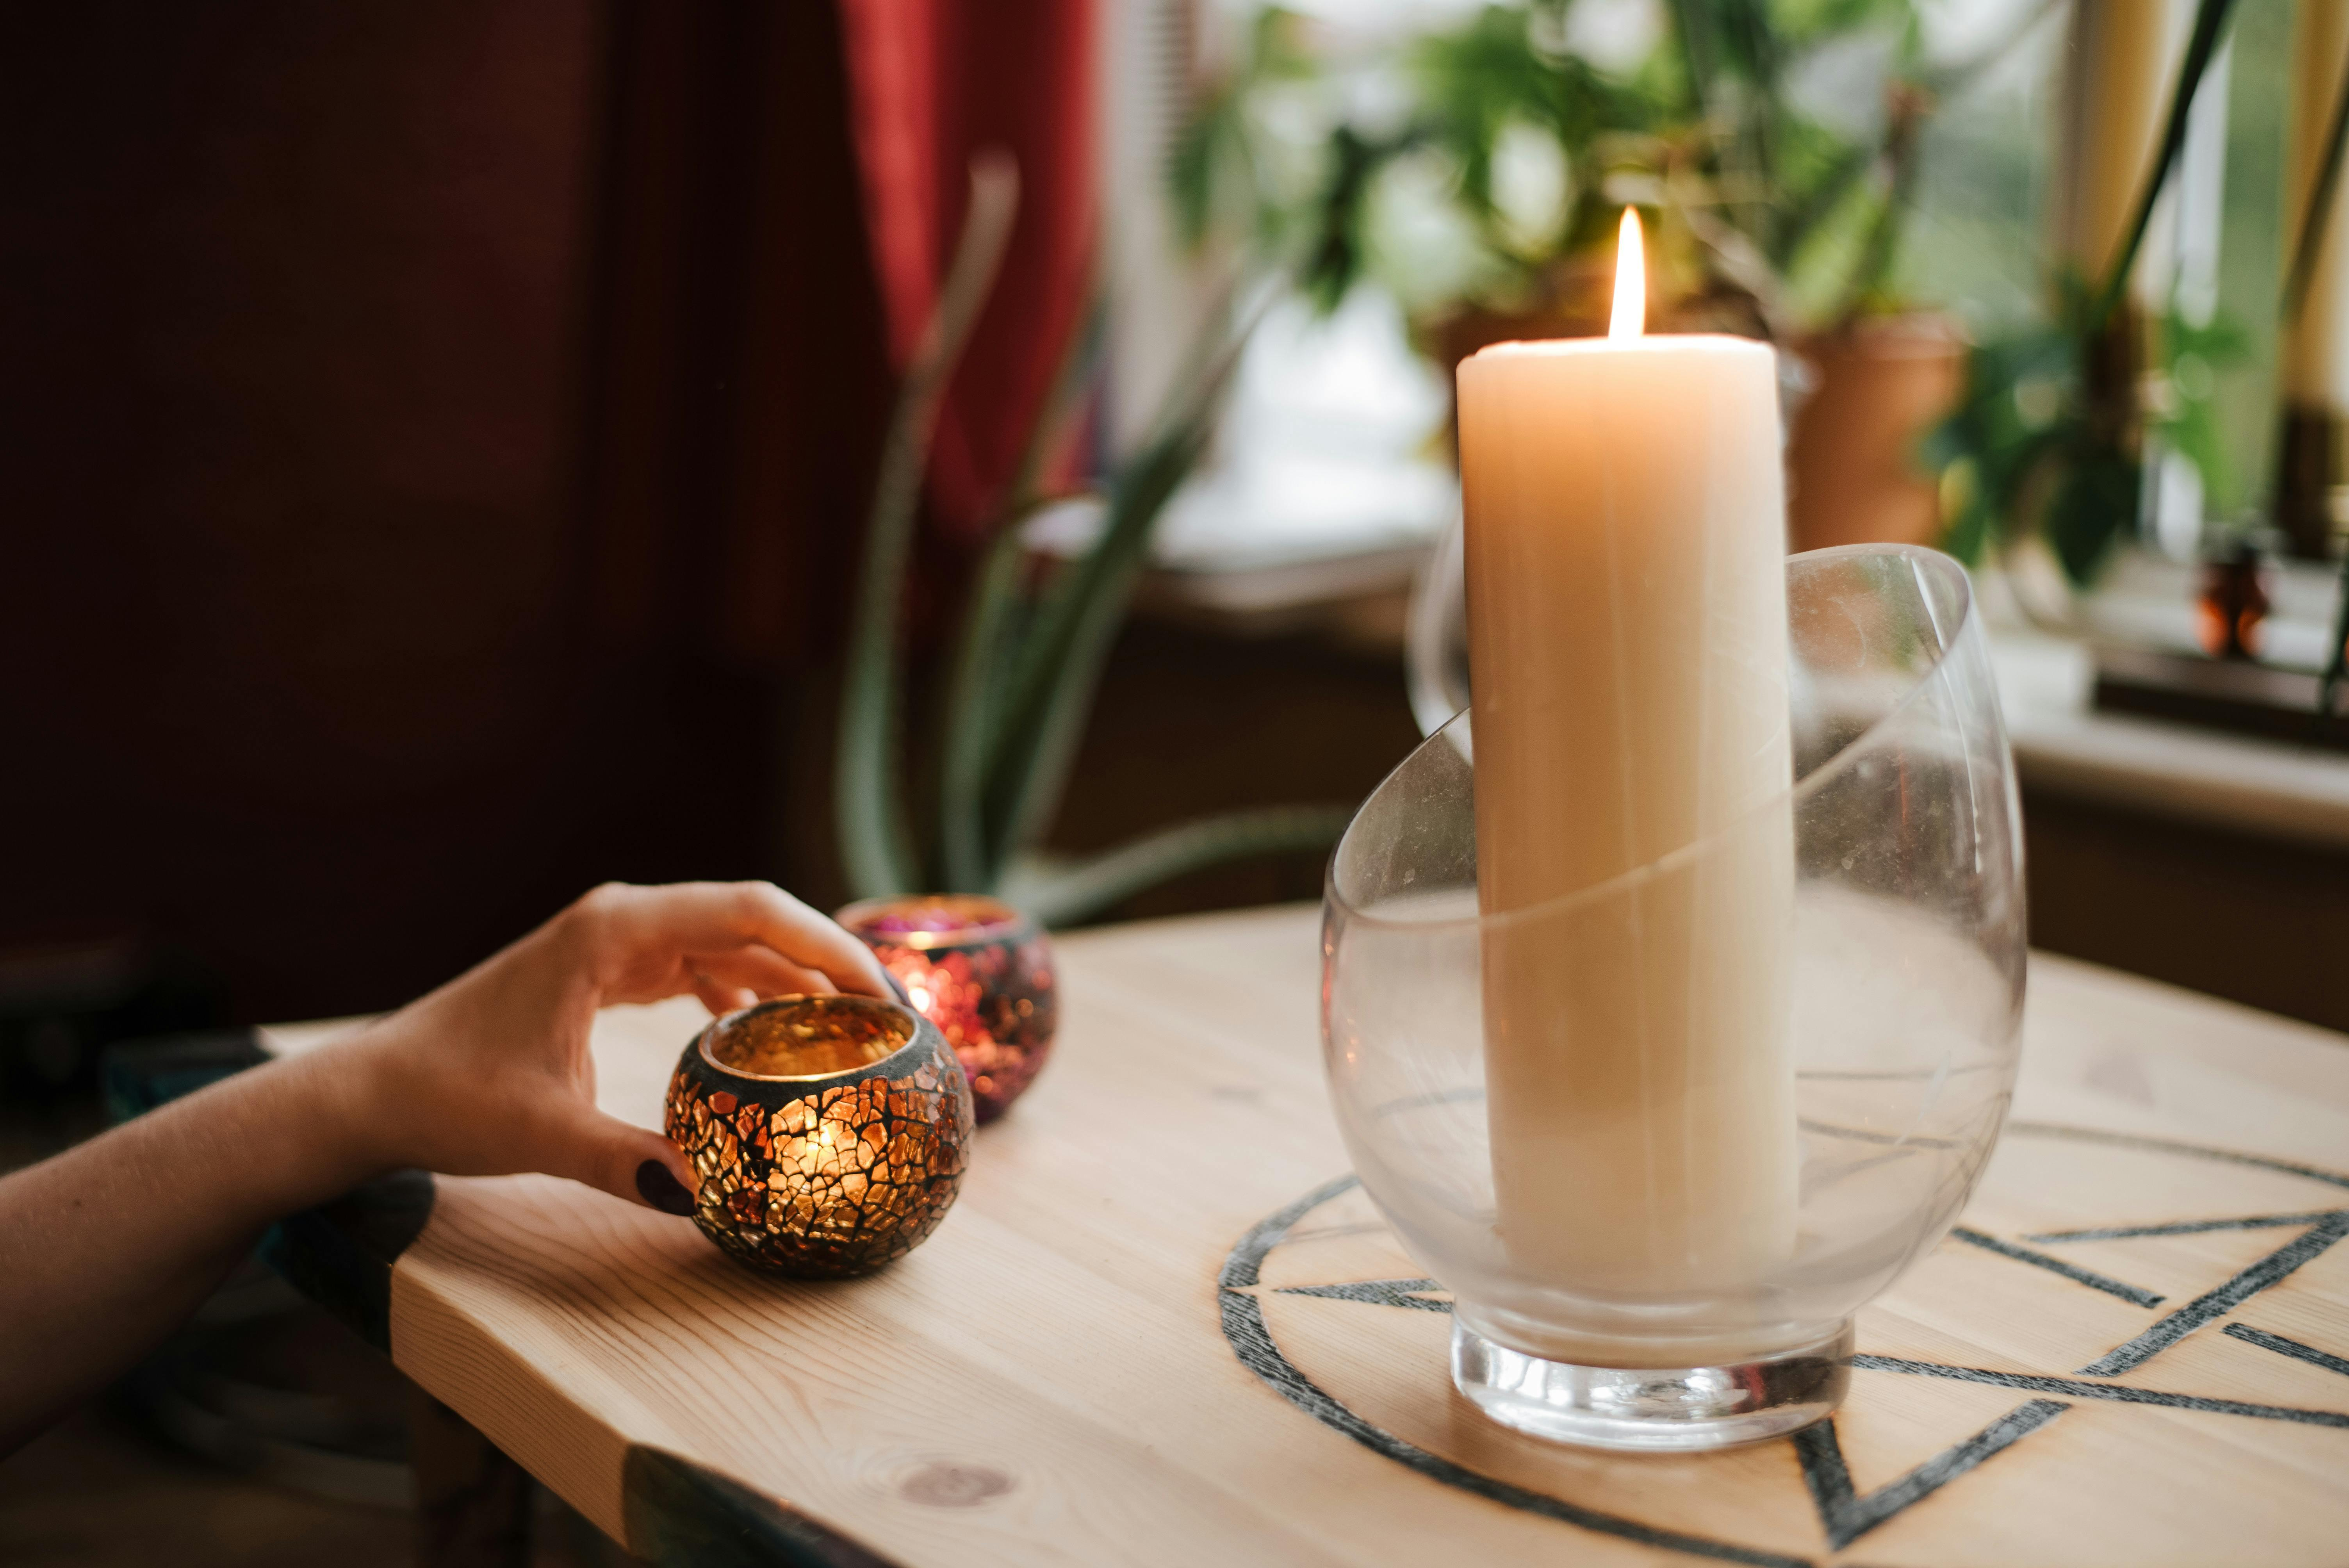Fire: (1591, 203, 1686, 346)
